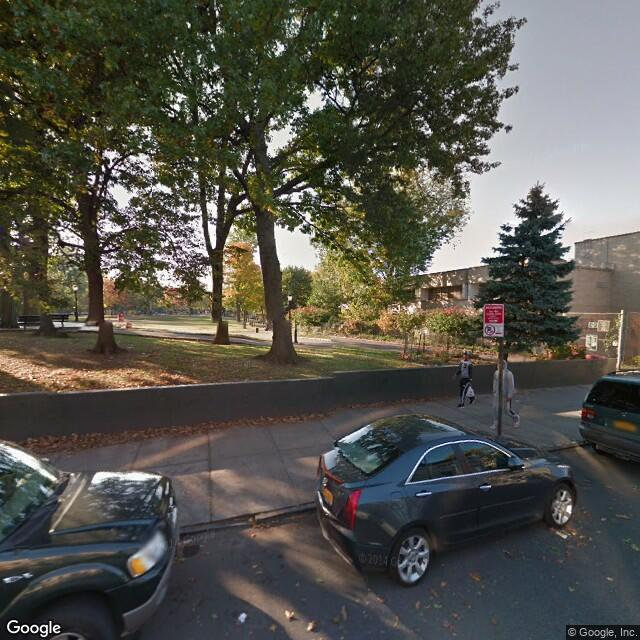litter: (219, 590, 263, 636)
